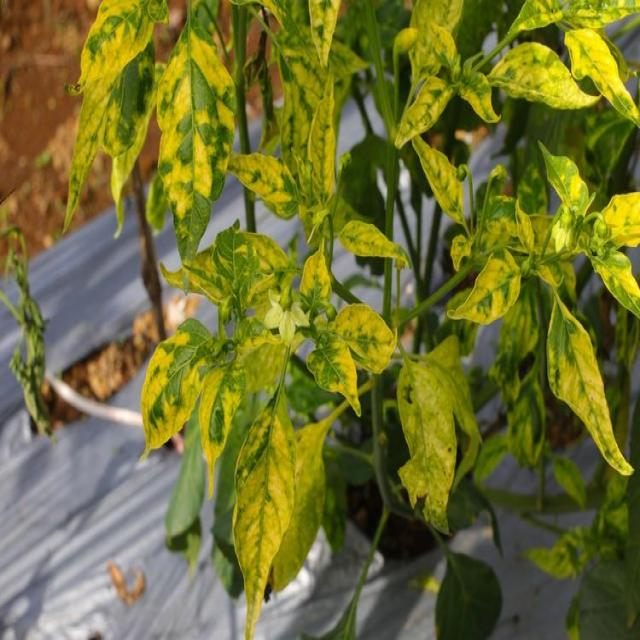virus_kuning: (230, 371, 312, 640), (147, 36, 232, 222), (547, 291, 628, 474), (110, 323, 219, 448), (64, 0, 152, 118), (310, 301, 404, 406), (506, 46, 610, 138), (451, 256, 522, 346)
